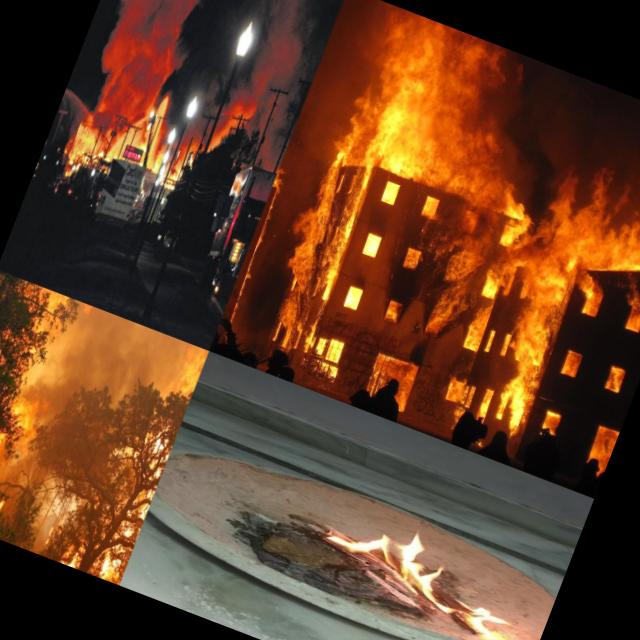fire: (253, 0, 599, 411), (0, 270, 209, 586), (477, 86, 640, 467), (303, 498, 516, 638), (58, 110, 130, 188), (134, 102, 182, 169), (152, 151, 188, 201)
smoke: (67, 0, 216, 132)
